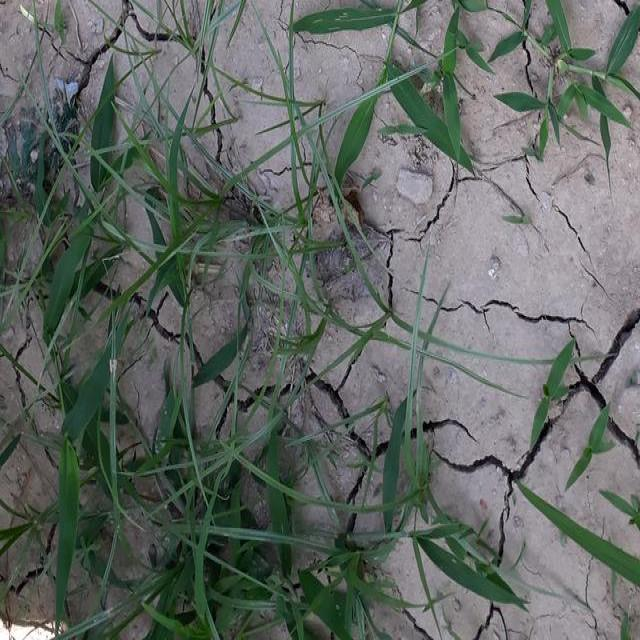weed: (19, 71, 369, 640)
